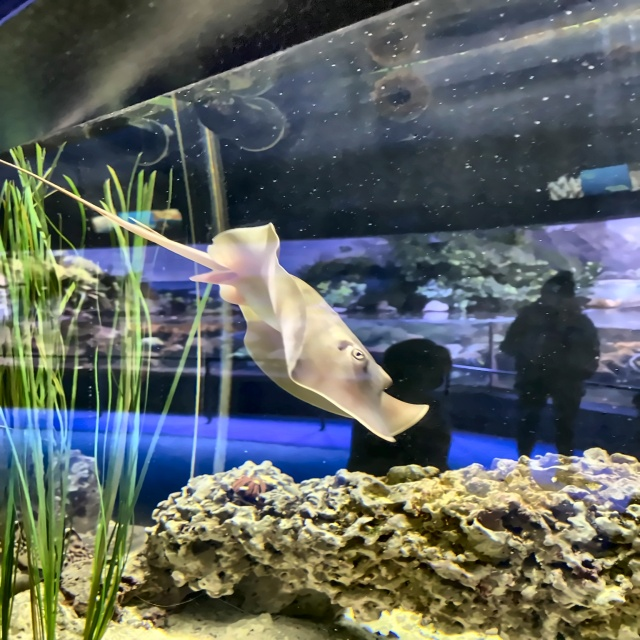stingray: (190, 212, 430, 443)
